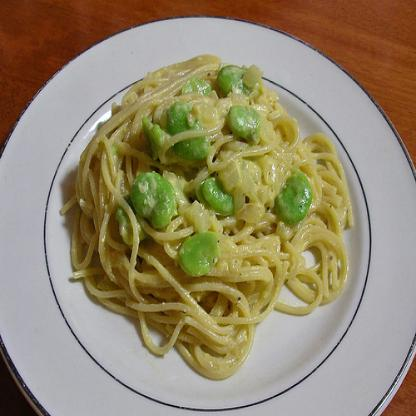pasta: (71, 62, 346, 375)
